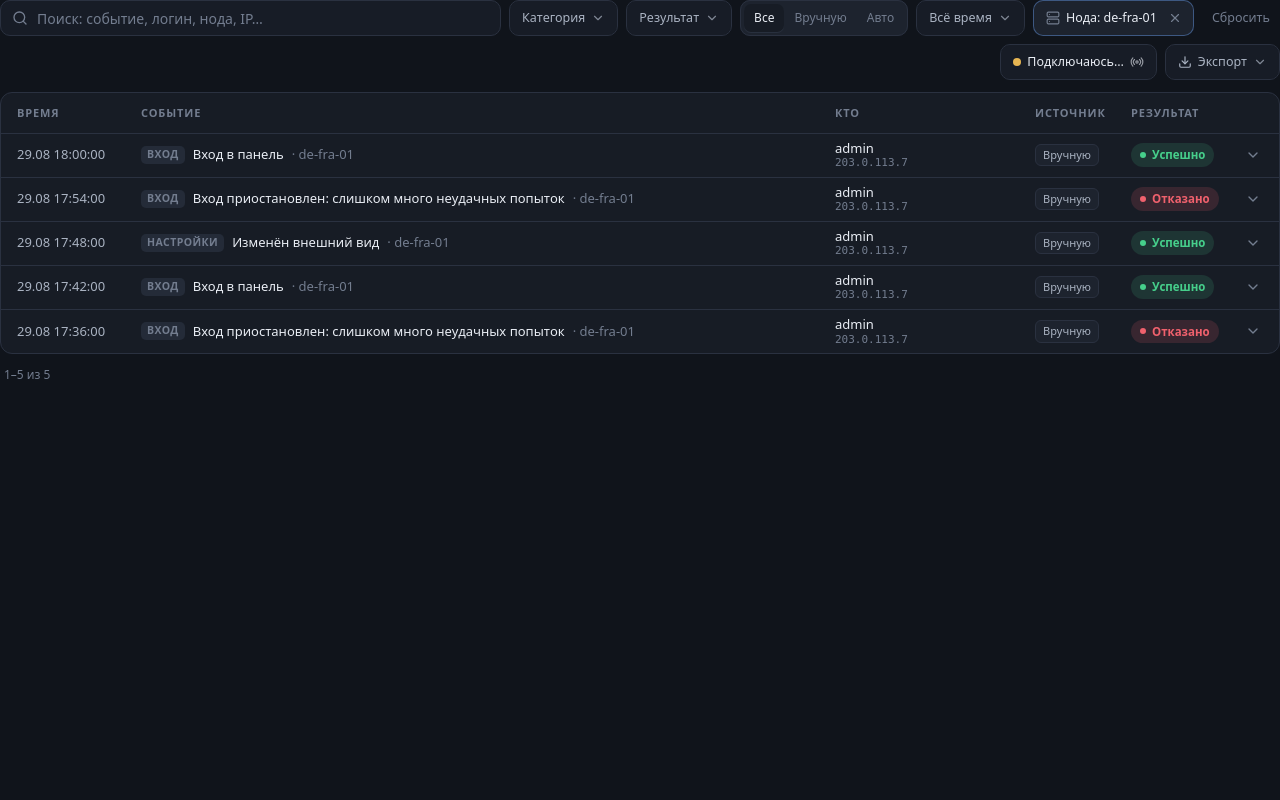
Test: AuditPage › старая ссылка с фильтром по серверу: чип «Нода» с именем из записей, список только его событий, крестик снимает
The image size is (1280, 800).
Expected: the text "· de-fra-01" in the row of "29.08 18:00:00" is shown, left=292, top=145, right=354, bottom=165
Expected: the text "· de-fra-01" in the row of "29.08 17:54:00" is shown, left=573, top=189, right=635, bottom=209
Click the button named "Снять фильтр по ноде" at (1175, 18), box left=1163, top=6, right=1187, bottom=30
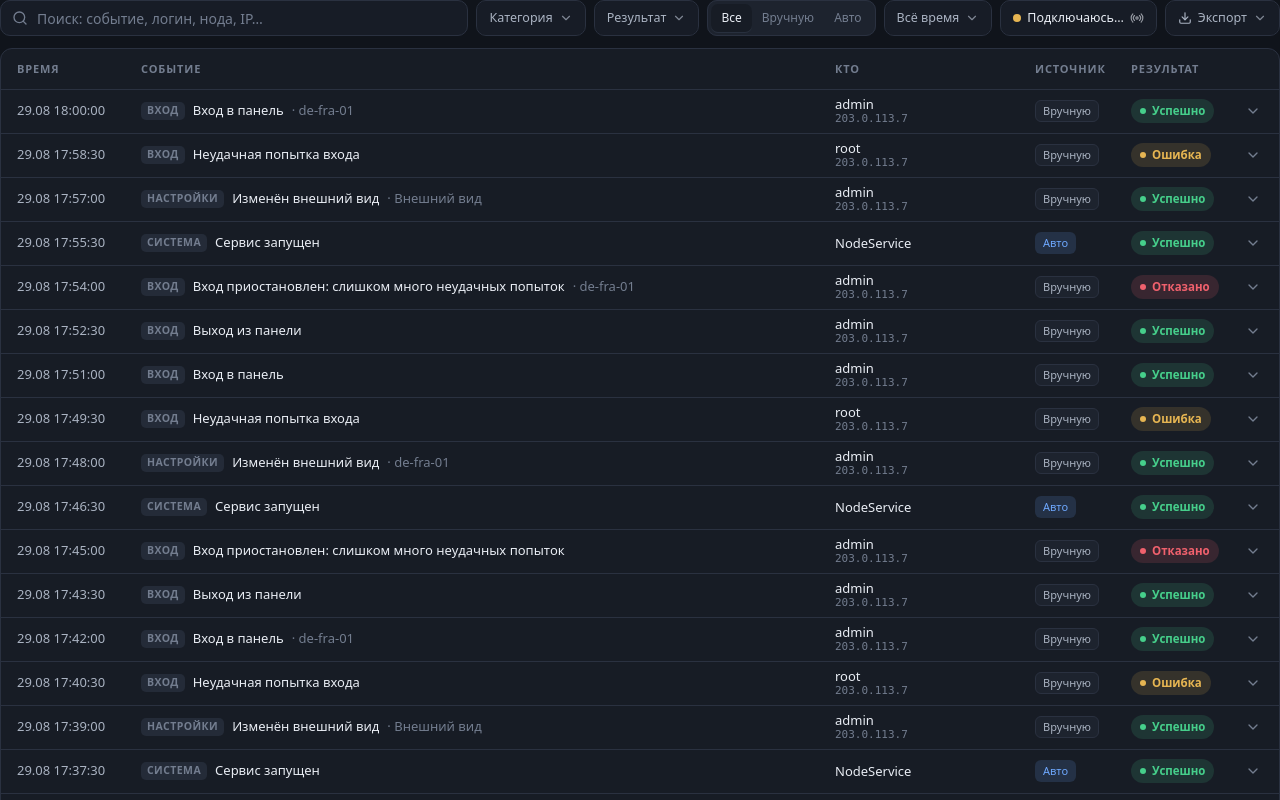
Expected: the element with test id "audit-target-chip" is gone
